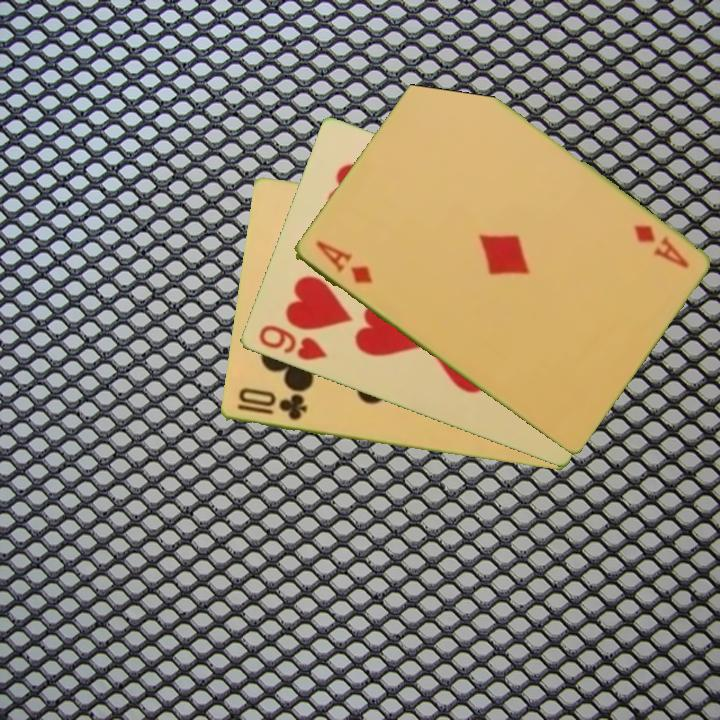10c: (233, 385, 310, 424)
9h: (254, 321, 329, 364)
Ad: (311, 237, 375, 287), (629, 221, 692, 271)
